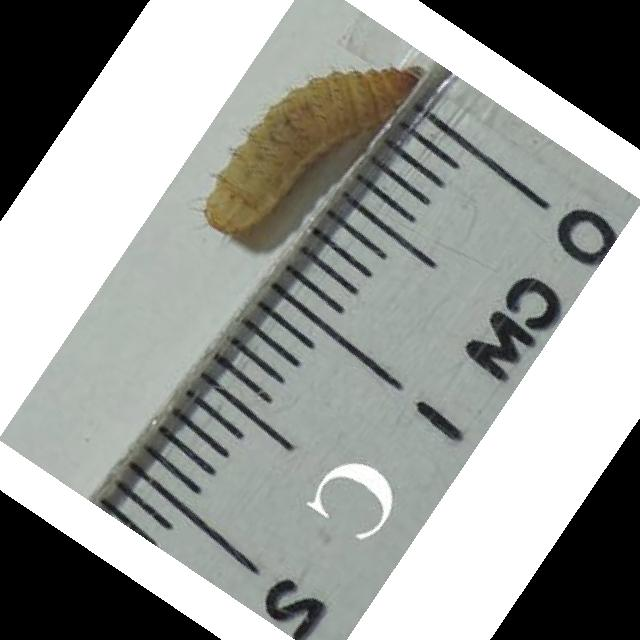Maggot: (194, 63, 428, 235)
